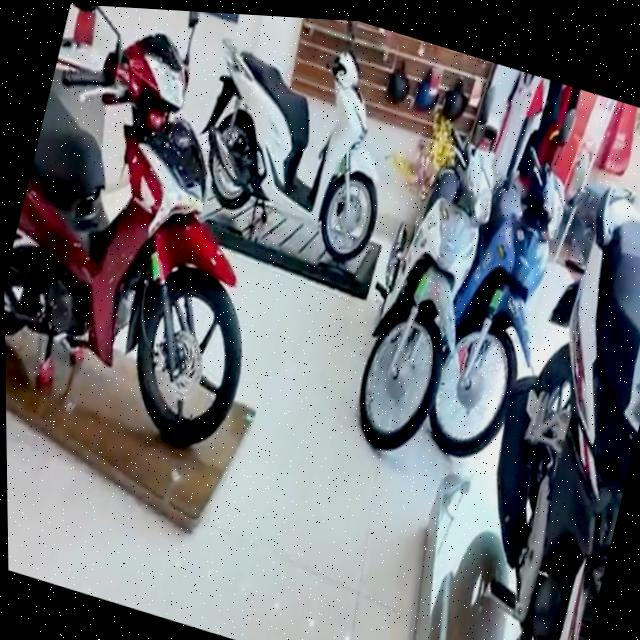motorcycle: (0, 0, 332, 466), (174, 10, 420, 272), (337, 114, 507, 476), (420, 144, 577, 480)
